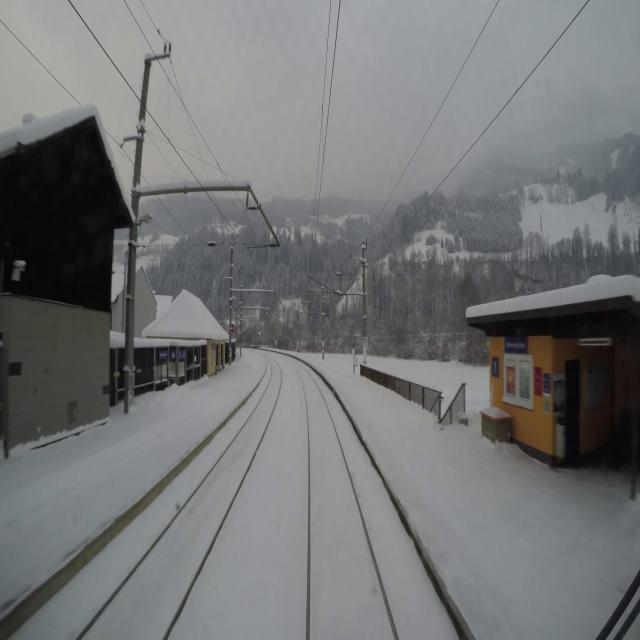rail-track: (82, 361, 279, 639), (297, 367, 394, 639)
